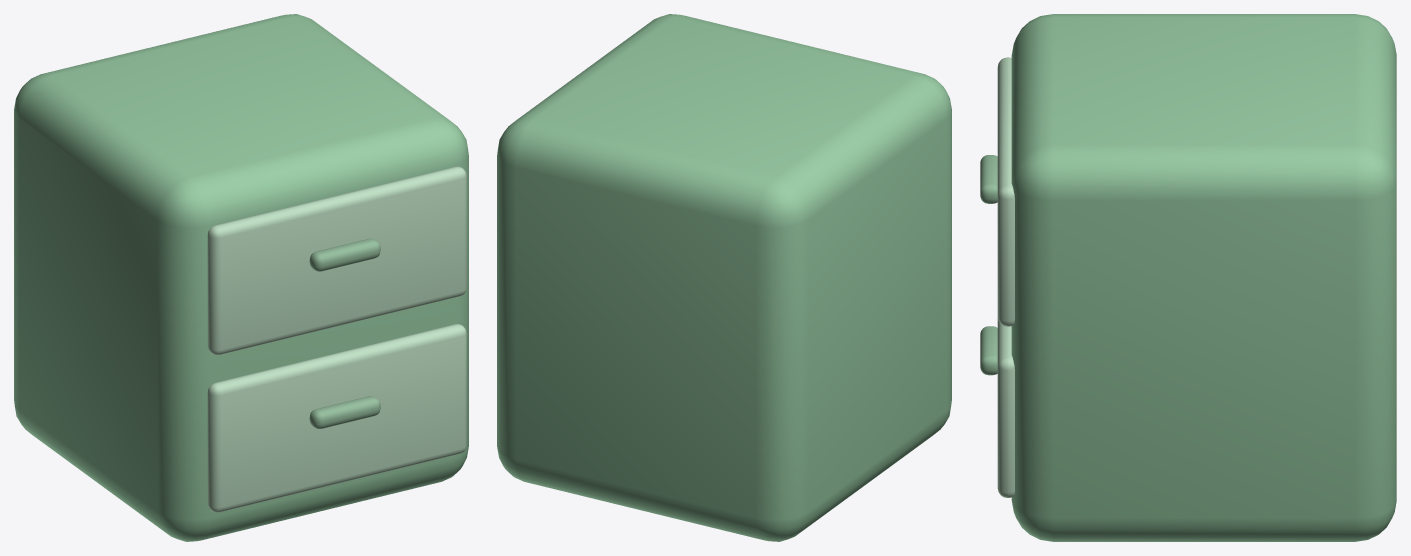
File: nightstand.glb
The picture shows the model from 3 angles, left to right: view 1: azimuth 30°, elevation 25°; view 2: azimuth 150°, elevation 25°; view 3: azimuth 270°, elevation 25°; orthographic projection. The views are drawn at different scales.
Parts seen in each view (by area): view 1: nightstand; view 2: nightstand; view 3: nightstand.
Boxes of the visible parts, x1,y1,x2,y2 form: nightstand: [14, 14, 468, 541]; nightstand: [497, 14, 951, 541]; nightstand: [980, 14, 1396, 541].
Size of the model in its own units: 0.55 by 0.62 by 0.595.
